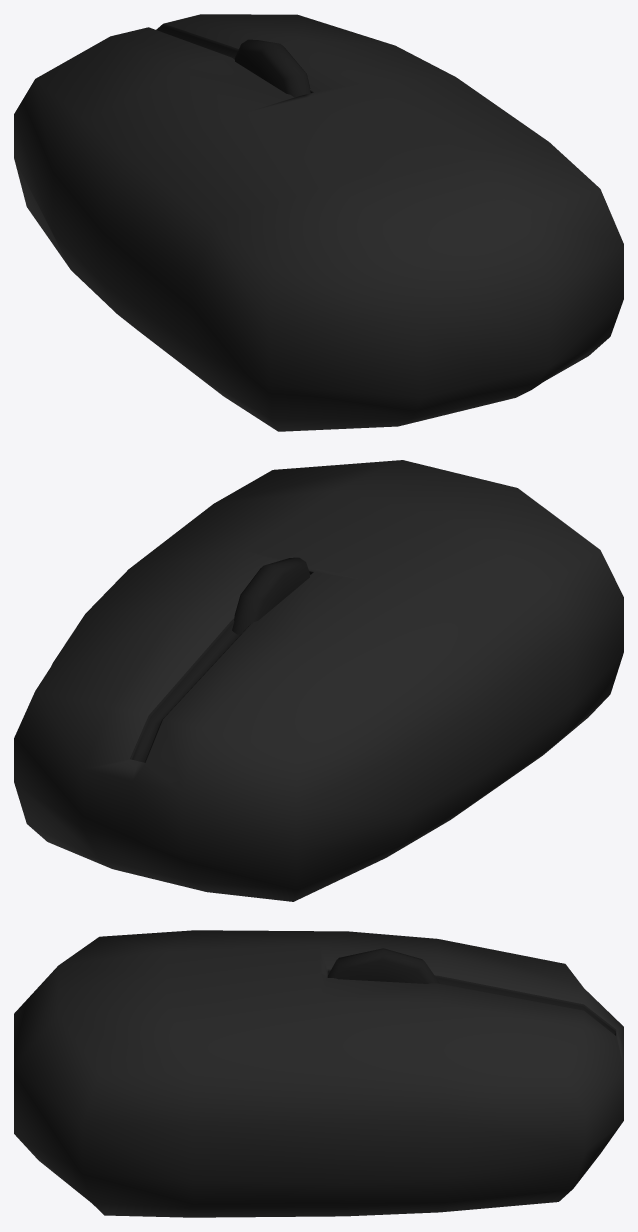
Rendered from mouse.fbx.
The picture shows the model from 3 angles, top to bottom: view 1: azimuth 30°, elevation 25°; view 2: azimuth 150°, elevation 25°; view 3: azimuth 270°, elevation 25°; orthographic projection. The views are drawn at different scales.
Visible parts, largest first — view 1: Mouse; view 2: Mouse; view 3: Mouse.
Part boxes in pixels (x1,y1,x2,y2): Mouse: (14,14,623,431); Mouse: (14,460,623,901); Mouse: (14,930,623,1217).
Bounding box in the file's own units: 5.92 × 9.83 × 15.75.
